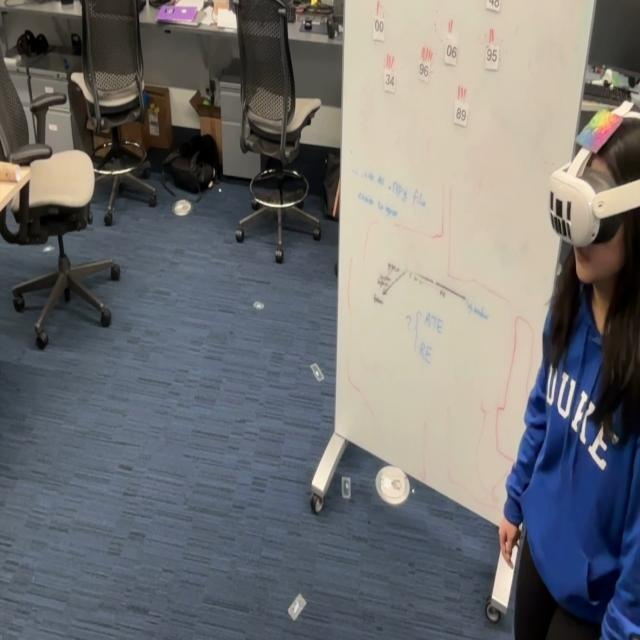Headset: (548, 109, 640, 248)
Marker: (577, 104, 620, 156)
